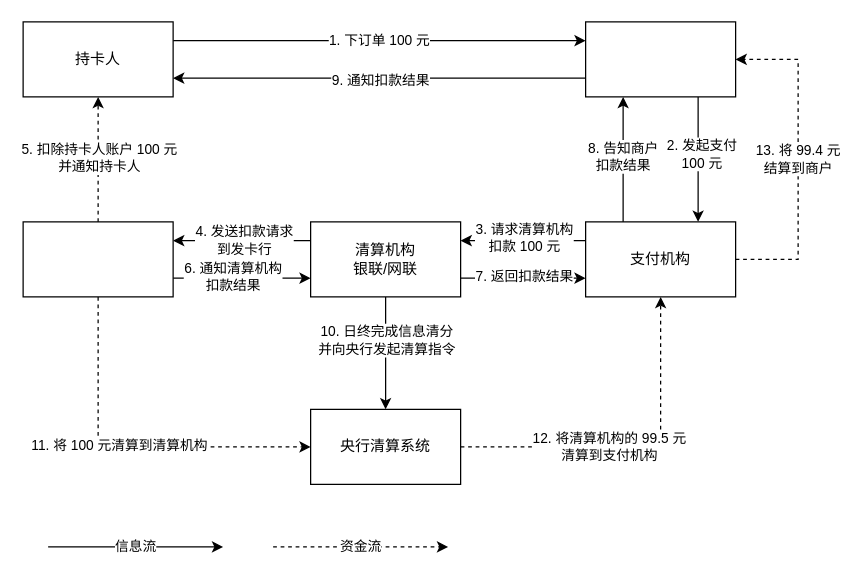
The diagram is 863 pixels wide and 579 high, and some of its shapes have lost their labels. Here are the shapes that lost their labels. From the top down, the centre of each, then its label:
At [660,59]: "商户".
At [97,259]: "发卡行".
